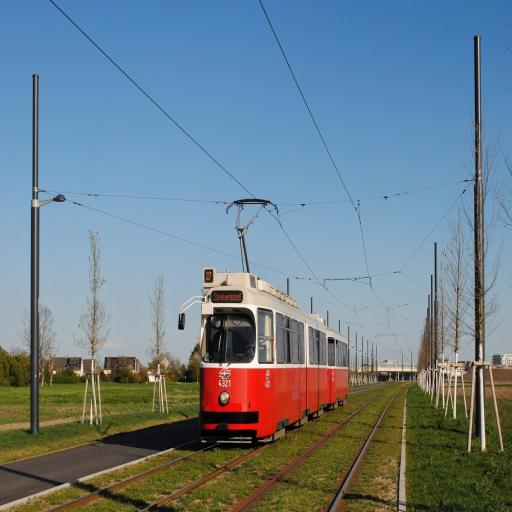E2-Tram: (197, 267, 349, 440)
